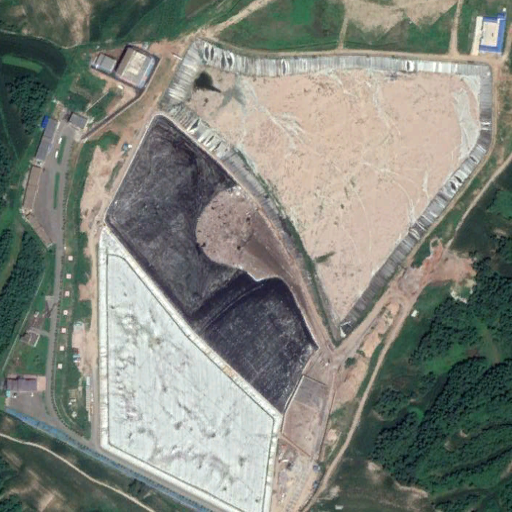lf: (102, 43, 485, 506)
